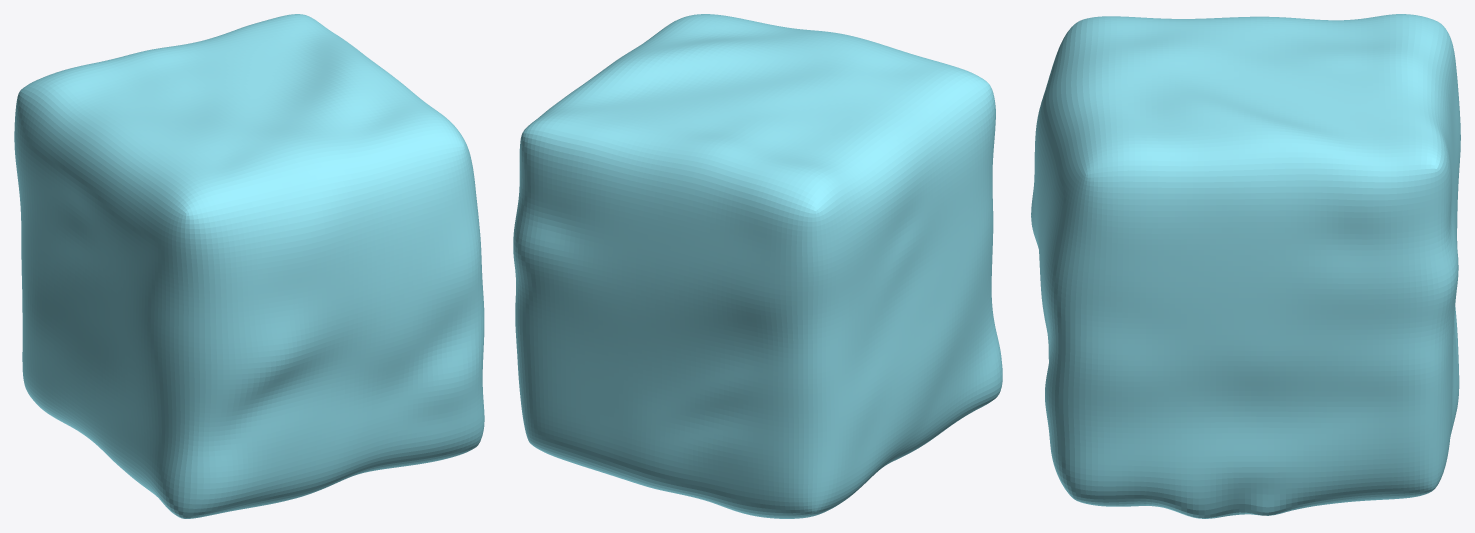
The picture shows the model from 3 angles, left to right: view 1: azimuth 30°, elevation 25°; view 2: azimuth 150°, elevation 25°; view 3: azimuth 270°, elevation 25°; orthographic projection. The views are drawn at different scales.
Parts seen in each view (by area): view 1: 立方体; view 2: 立方体; view 3: 立方体.
Part boxes in pixels (x1,y1,x2,y2): 立方体: [14, 14, 484, 518]; 立方体: [513, 14, 1002, 518]; 立方体: [1031, 14, 1460, 518].
Bounding box in the file's own units: 217 × 222 × 231.
